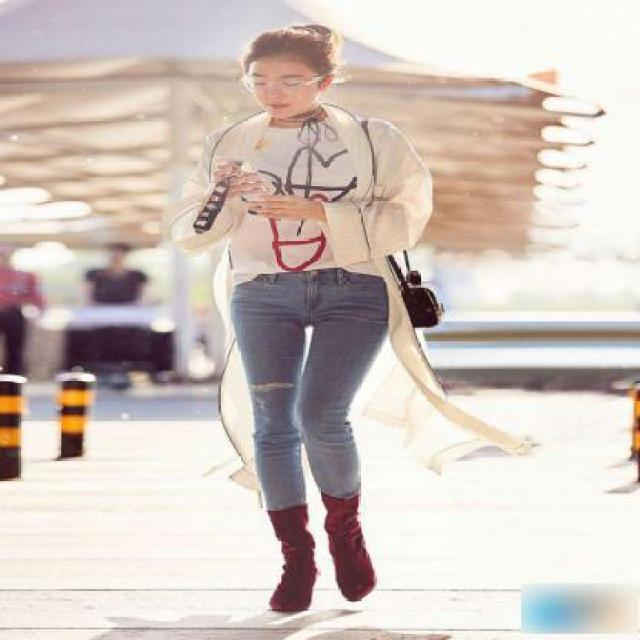Person: (164, 4, 456, 624)
